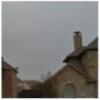chimneys: (73, 30, 84, 50)
